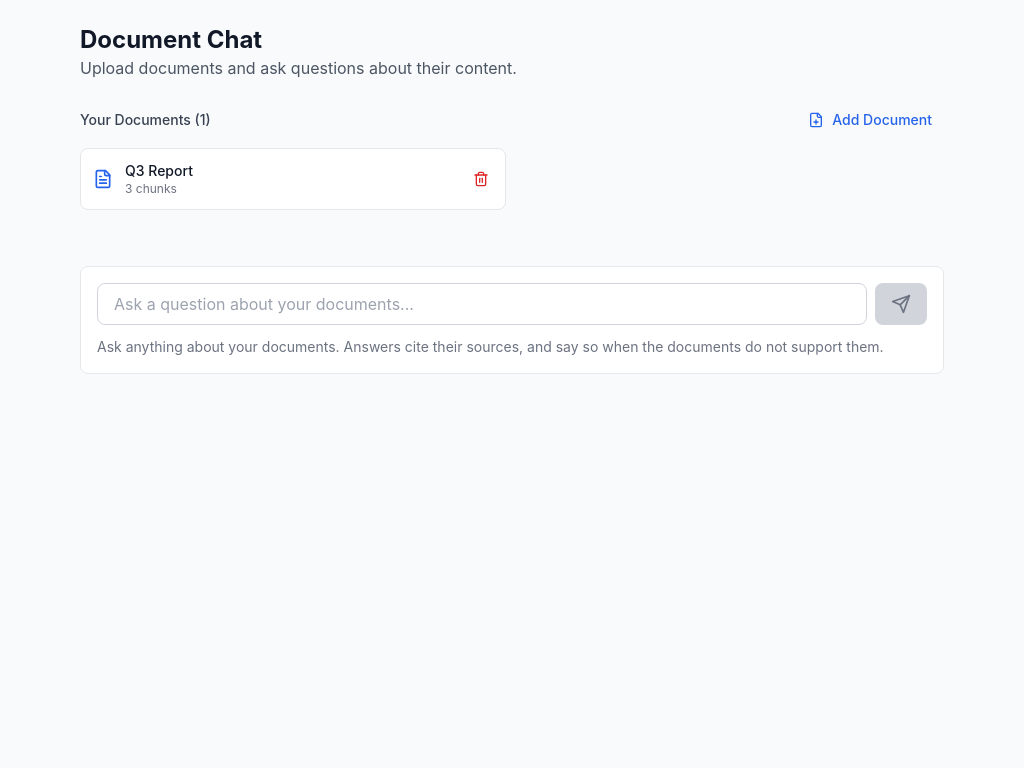
Test case: ChatPage: asking a question › warns about an answer that has no support in the documents
Type "What is the CEO salary?" into the field named "Your question" at point(482, 304), box [97,283,867,325]
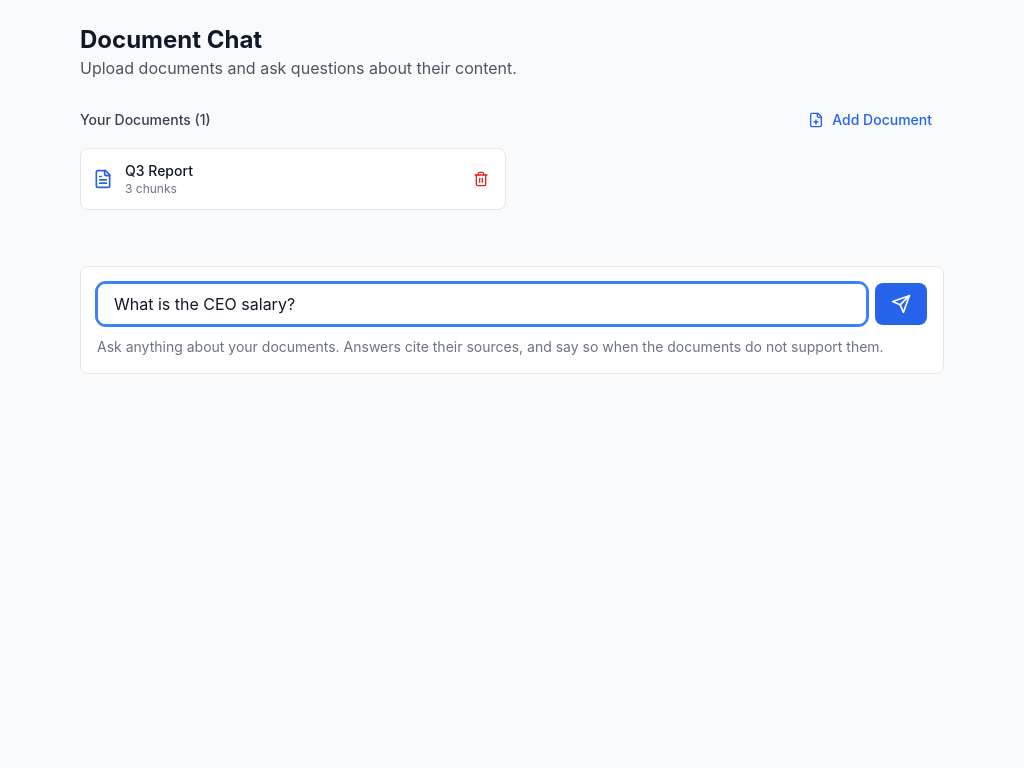
Click the button named "send question" at point(901, 304), box [875,283,927,325]
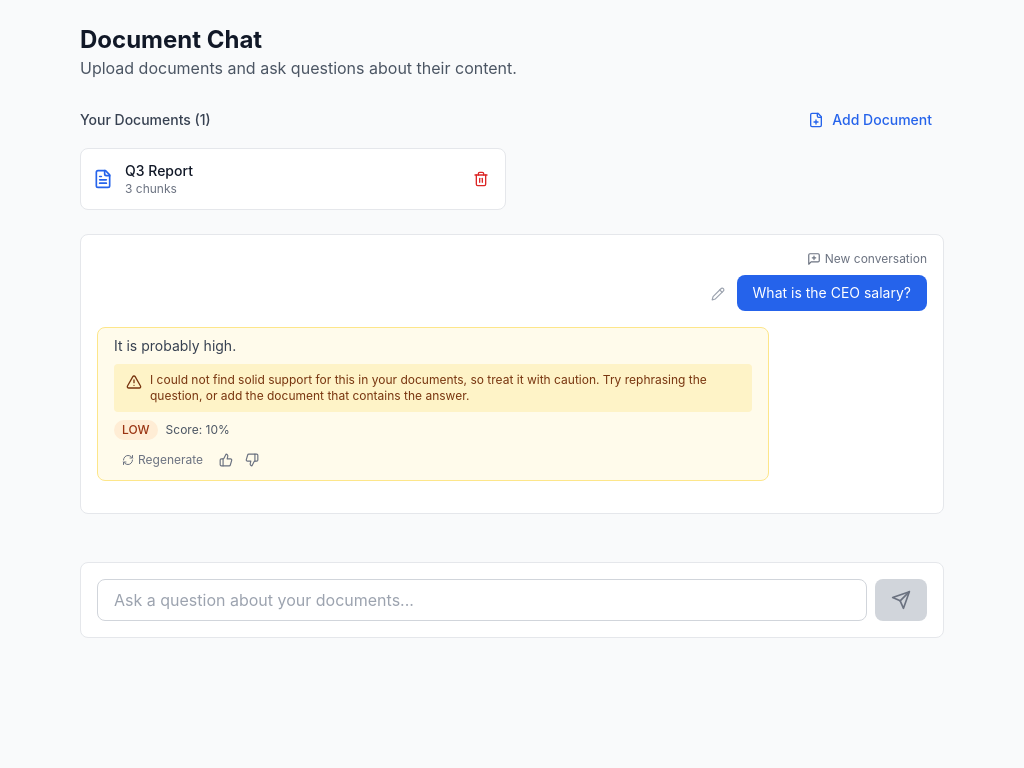
Check: the text "It is probably high." is shown, box [114,337,236,354]
Check: the text "could not find solid support" is shown, box [150,372,707,403]
